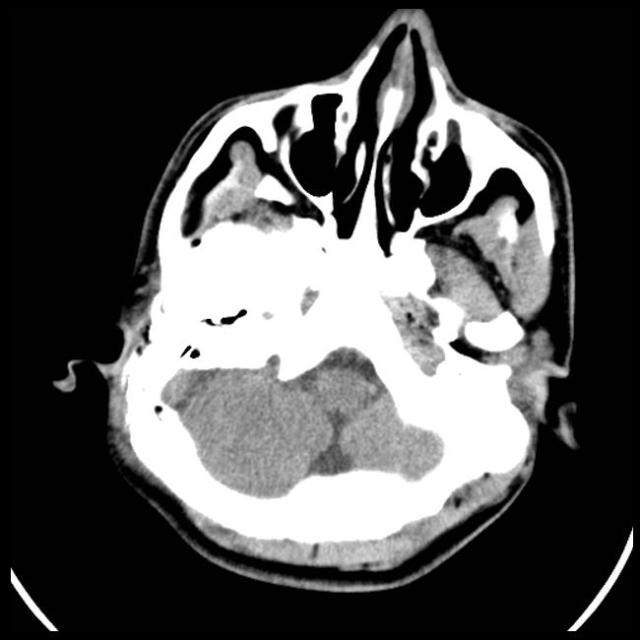lesion: (69, 8, 583, 593)
